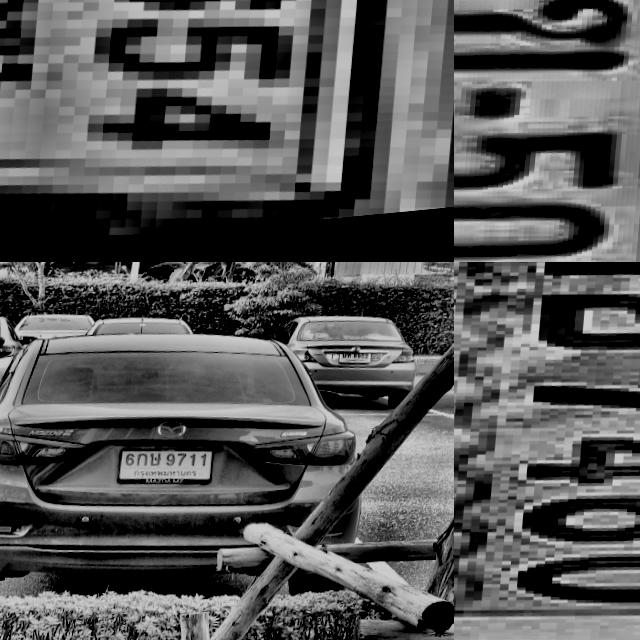license-plate: (0, 0, 454, 262), (454, 262, 640, 640), (454, 0, 640, 262), (79, 353, 136, 432), (228, 513, 250, 545)
